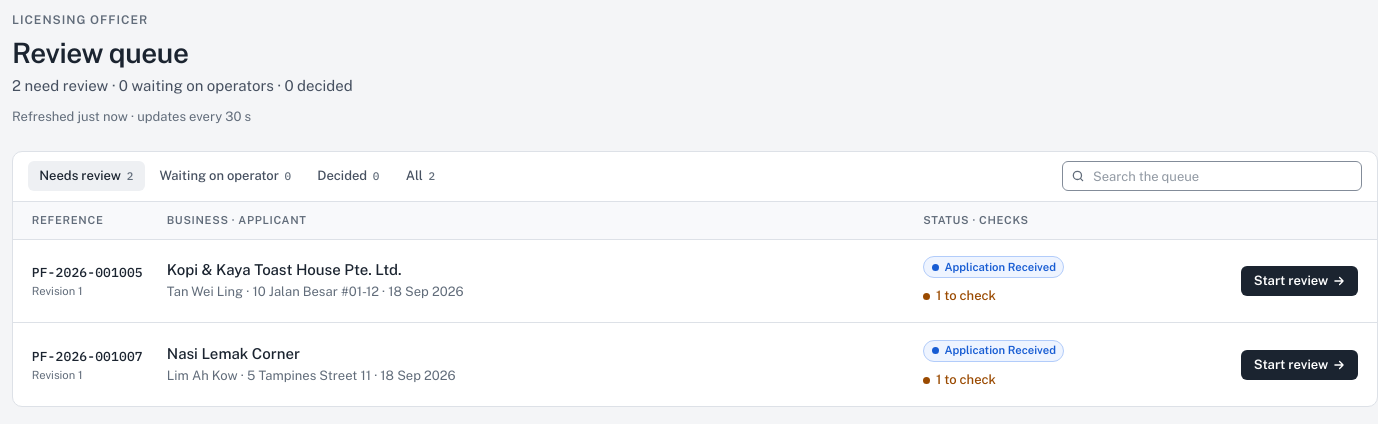
OfficerQueuePage › searches by reference, business, address or applicant within the current tab
The image size is (1378, 424).
Expected: the text "PF-2026-001007" is shown, top-left (32, 346), bottom-right (152, 368)
Type "tampines" into the search field named "Search reference" at (1212, 176), box top-left (1062, 161), bottom-right (1362, 191)
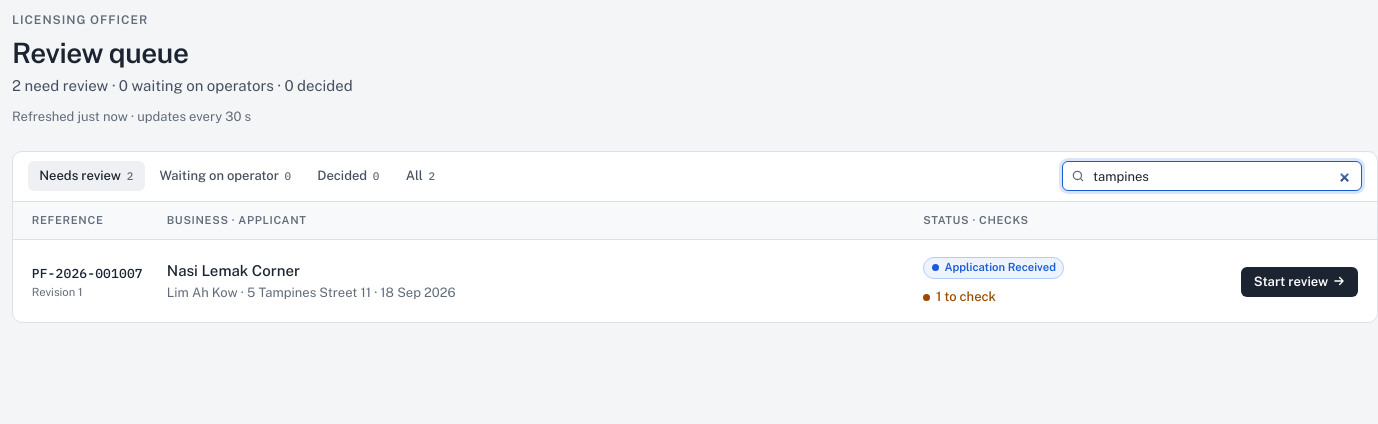
Expected: the text "PF-2026-001007" is shown, top-left (32, 262), bottom-right (152, 284)
Now the link "PF-2026-001005" is gone
Replace the text in the search field named "Search reference" with "ah kow" at (1212, 176), box top-left (1062, 161), bottom-right (1362, 191)
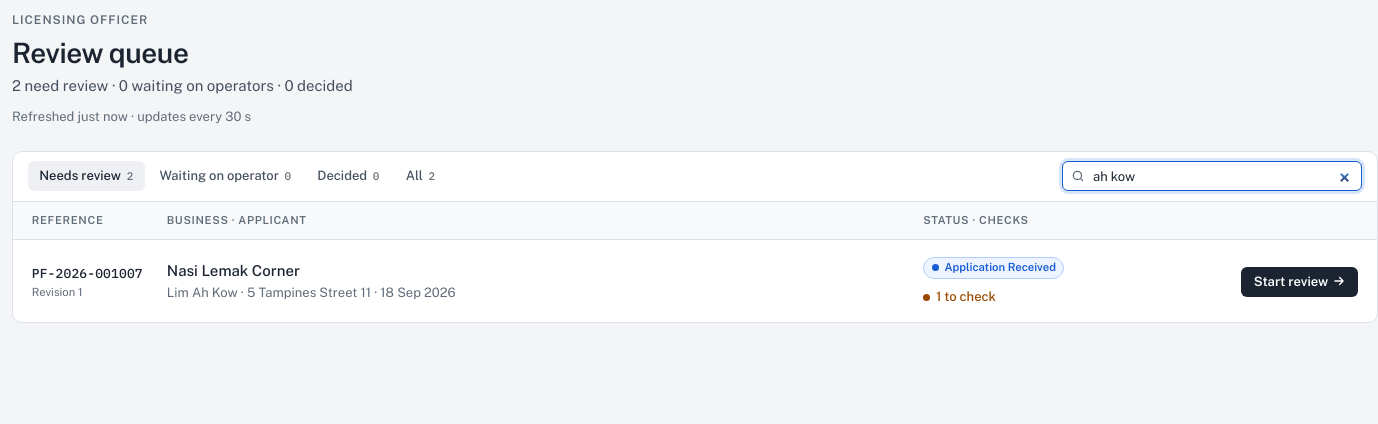
Expected: the text "PF-2026-001007" is shown, top-left (32, 262), bottom-right (152, 284)
Replace the text in the search field named "Search reference" with "nowhere" at (1212, 176), box top-left (1062, 161), bottom-right (1362, 191)
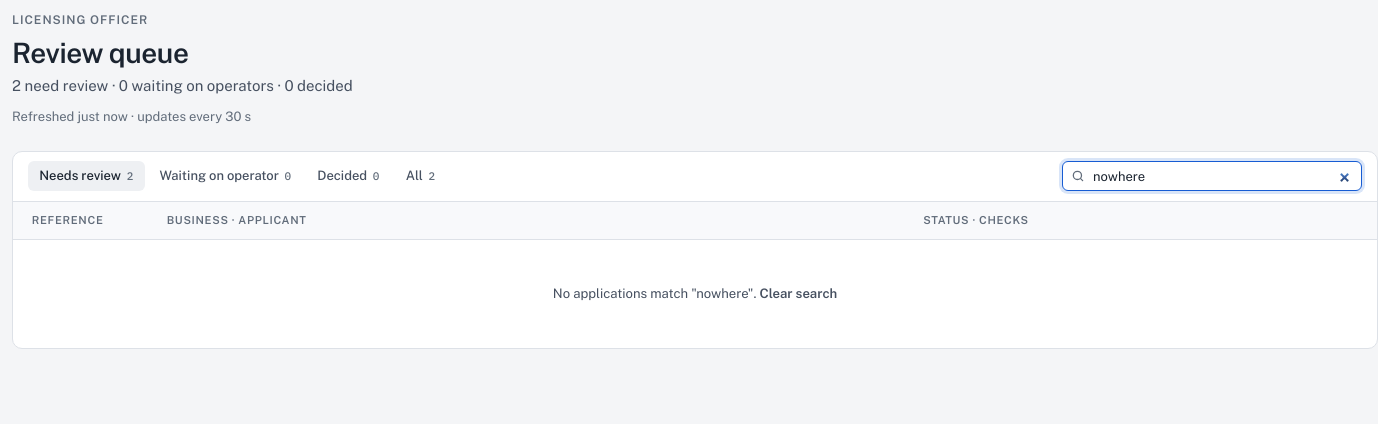
Now the text "No applications match \"nowhere\". Clear search" is shown, box top-left (553, 284), bottom-right (837, 303)
Click the button "Clear search" at (798, 294), box top-left (760, 284), bottom-right (837, 303)
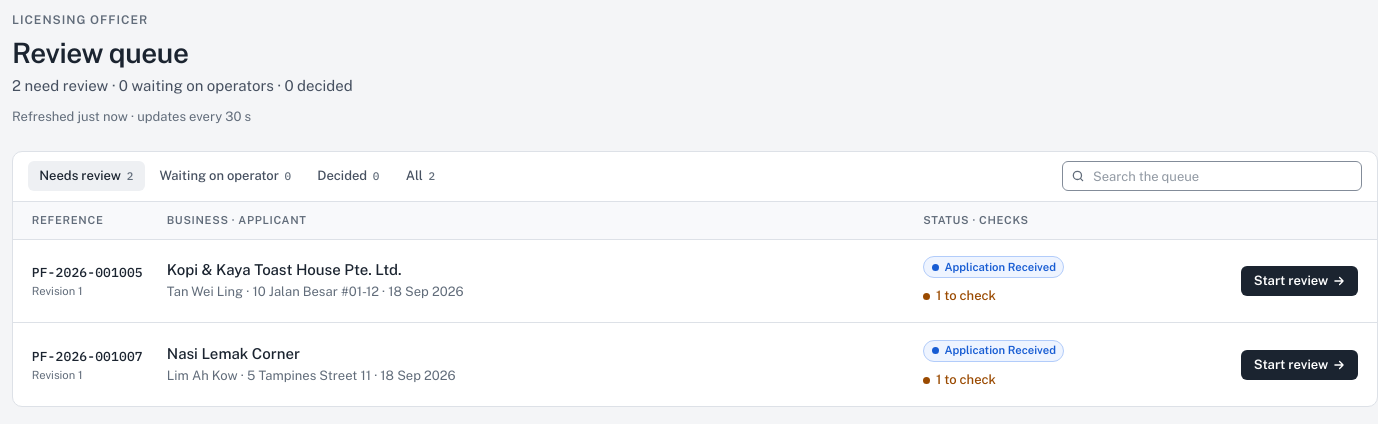
Now the text "PF-2026-001005" is shown, box top-left (32, 262), bottom-right (152, 284)
